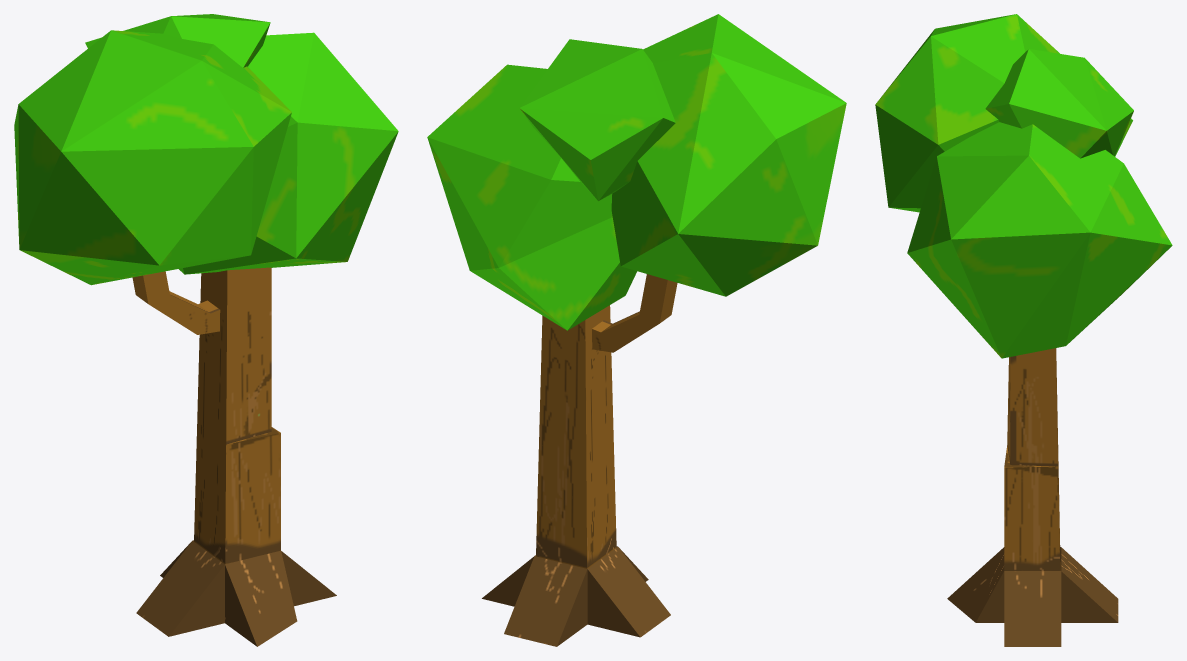
The model's file is tree_chesburg_2.glb.
The picture shows the model from 3 angles, left to right: view 1: azimuth 30°, elevation 25°; view 2: azimuth 150°, elevation 25°; view 3: azimuth 270°, elevation 25°; orthographic projection. The views are drawn at different scales.
Visible parts, largest first — view 1: leaves.001; view 2: leaves.001; view 3: leaves.001.
Boxes of the visible parts, box(x1,y1,x2,y2) form: leaves.001: box(14, 14, 398, 646); leaves.001: box(427, 14, 846, 646); leaves.001: box(875, 14, 1172, 646).
Size of what is drawn, in the model's own units: 6.43 by 10.42 by 5.21.
Materials: 1 (1 with a texture image).
